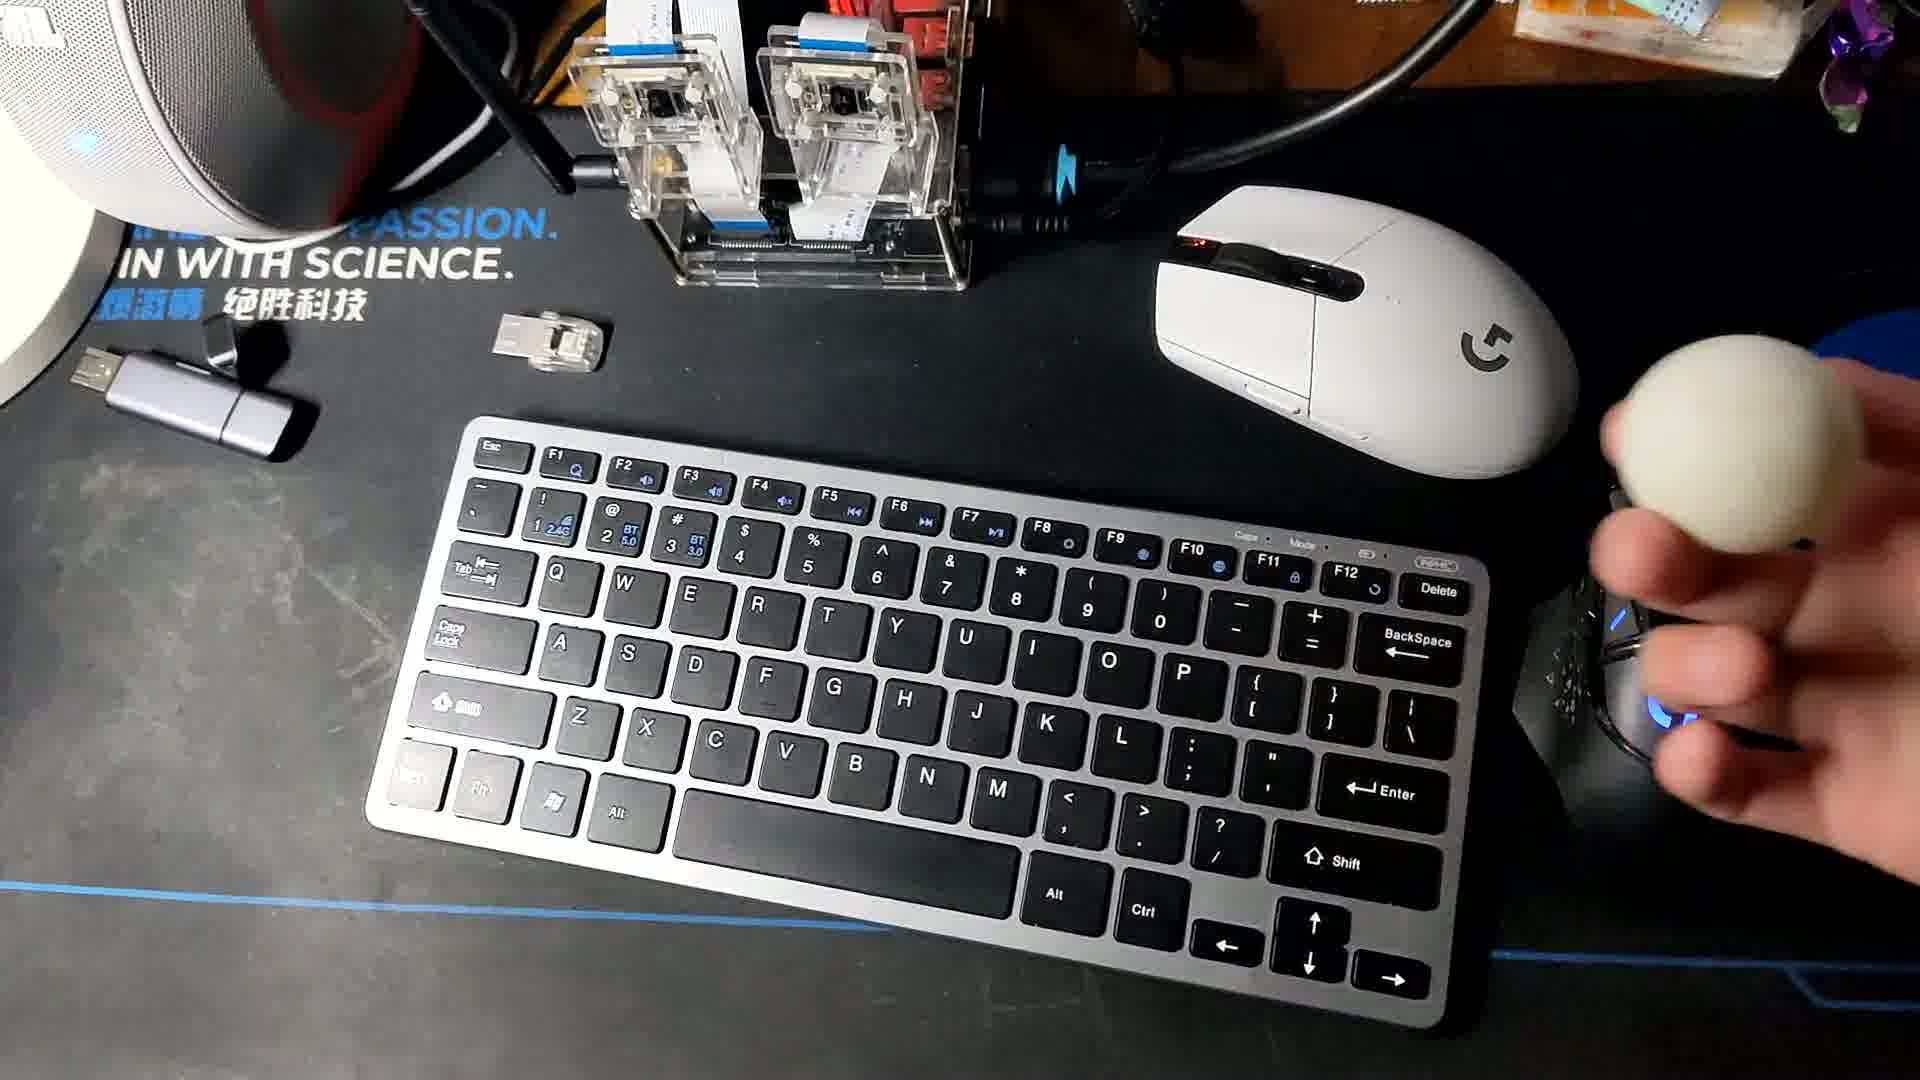Ball: (1618, 335, 1867, 559)
